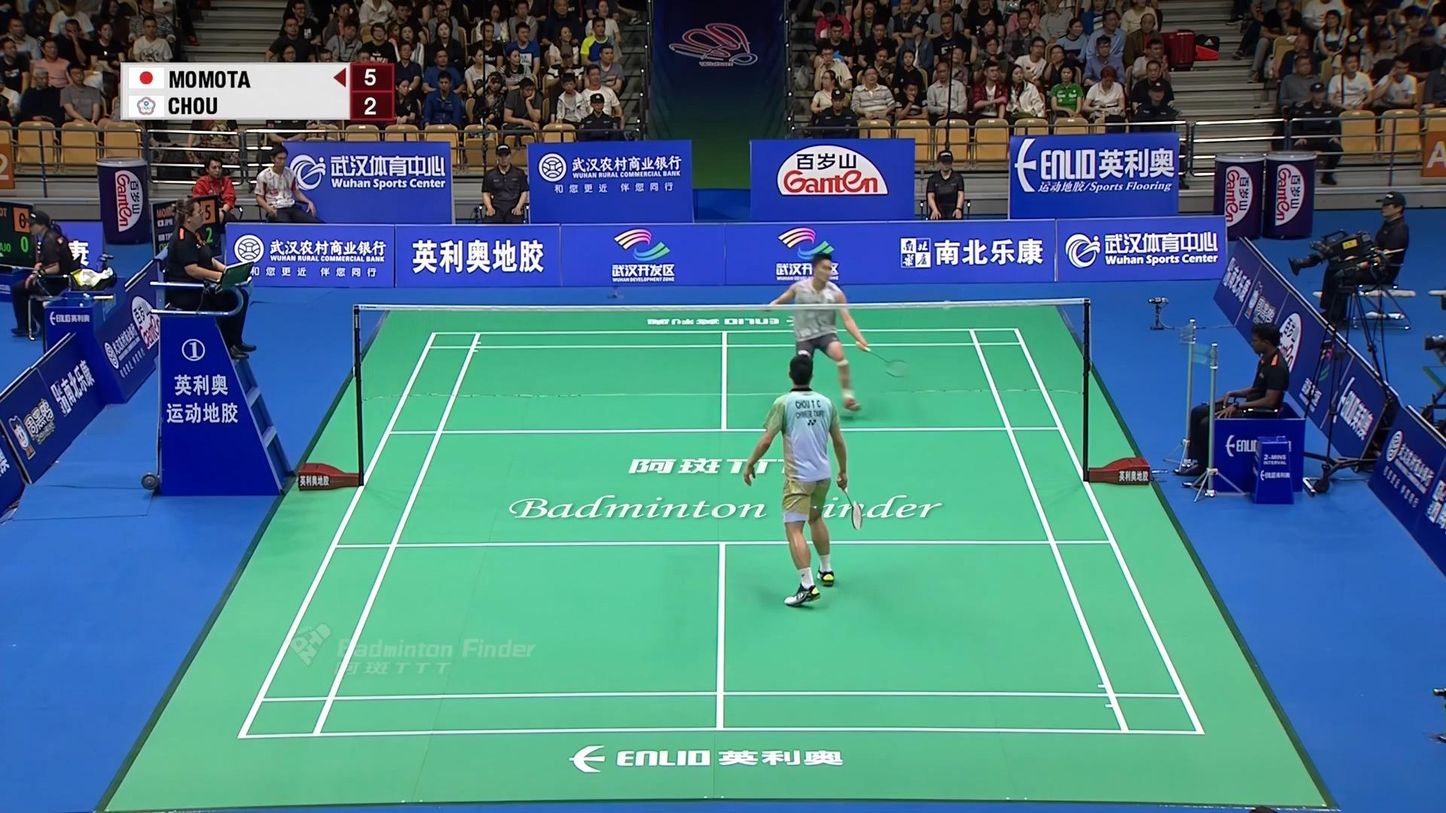player: (743, 355, 850, 607), (763, 252, 870, 413)
